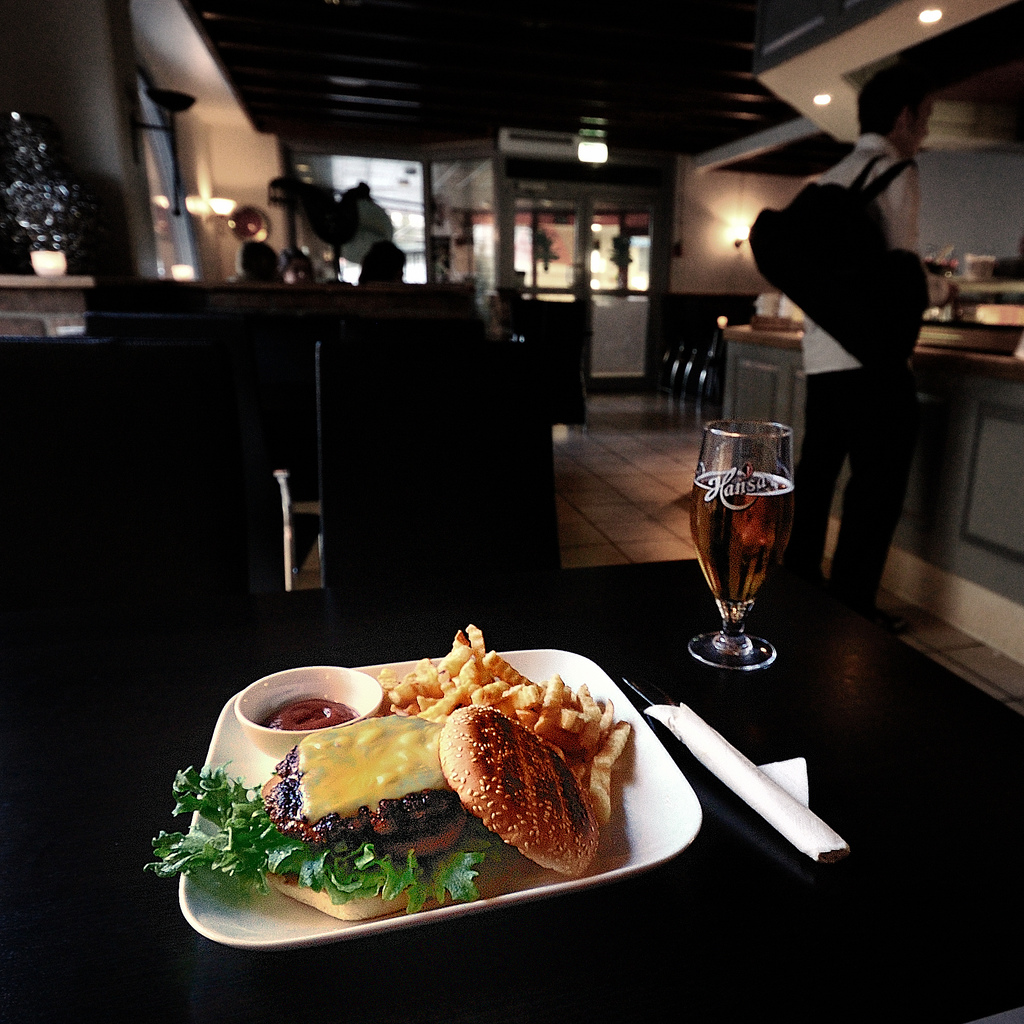chopped lettuce: (183, 776, 270, 886)
slice of bread: (440, 704, 606, 873)
